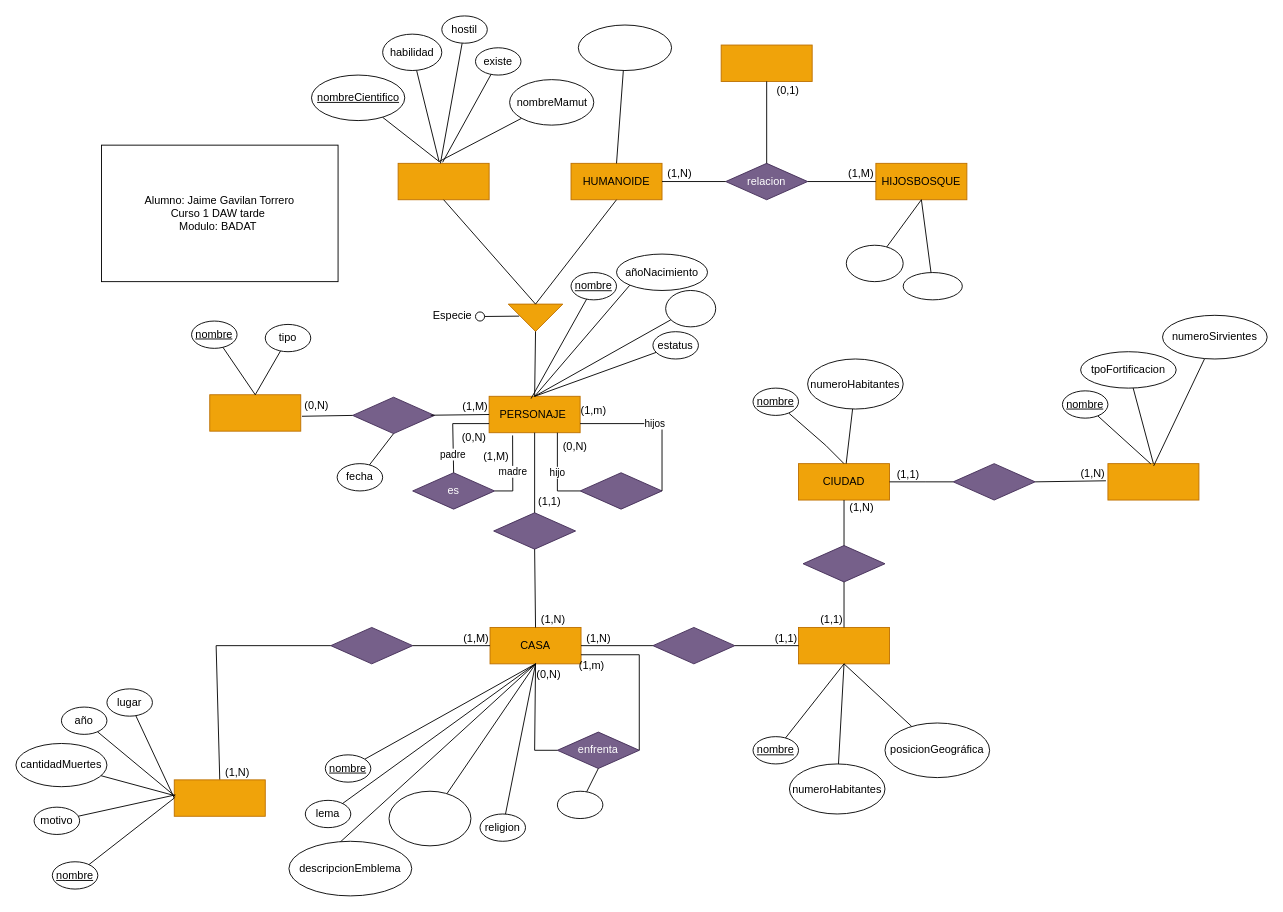
This 1283x912 diagram has some shape labels left out. The centre of each missing label's shape, as x and y in pixels:
"bastardo" goes at point (690, 308).
"CASTILLO" goes at point (1153, 481).
"colorPiel" goes at point (874, 263).
"conforman" goes at point (843, 563).
"ejerce" goes at point (393, 415).
"establecida" goes at point (693, 645).
"estatura" goes at point (932, 286).
"etnia" goes at point (624, 47).
"fechaFundacion" goes at point (429, 818).
"GIGANTE" goes at point (443, 181).
"GUERRA" goes at point (219, 797).
"hay" goes at point (993, 481).
"OTRO" goes at point (766, 62).
"participa" goes at point (371, 645).
"pertenece" goes at point (534, 530).
"PROFESION" goes at point (255, 412).
"REINO" goes at point (844, 645).
"tiene" goes at point (620, 490).
"victoria" goes at point (579, 804).
